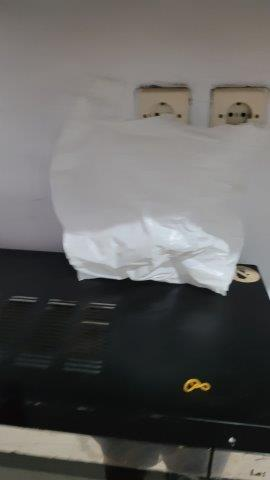plastik: (50, 52, 258, 290)
